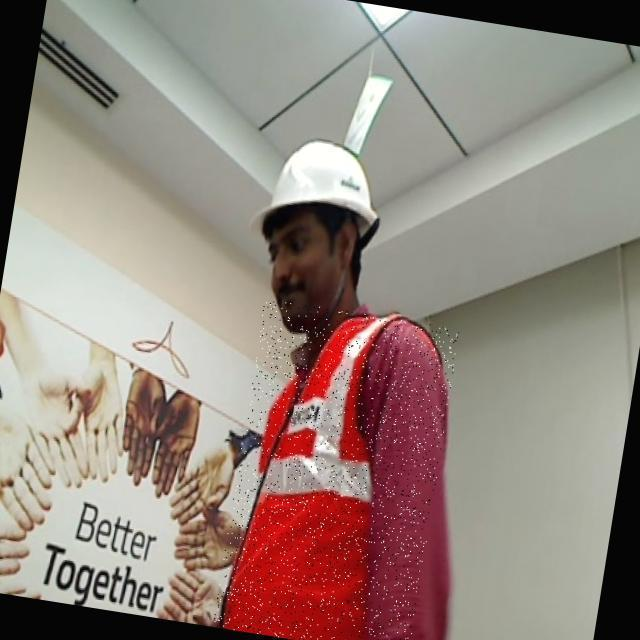helmet: (247, 137, 381, 260)
vest: (213, 298, 461, 640)
